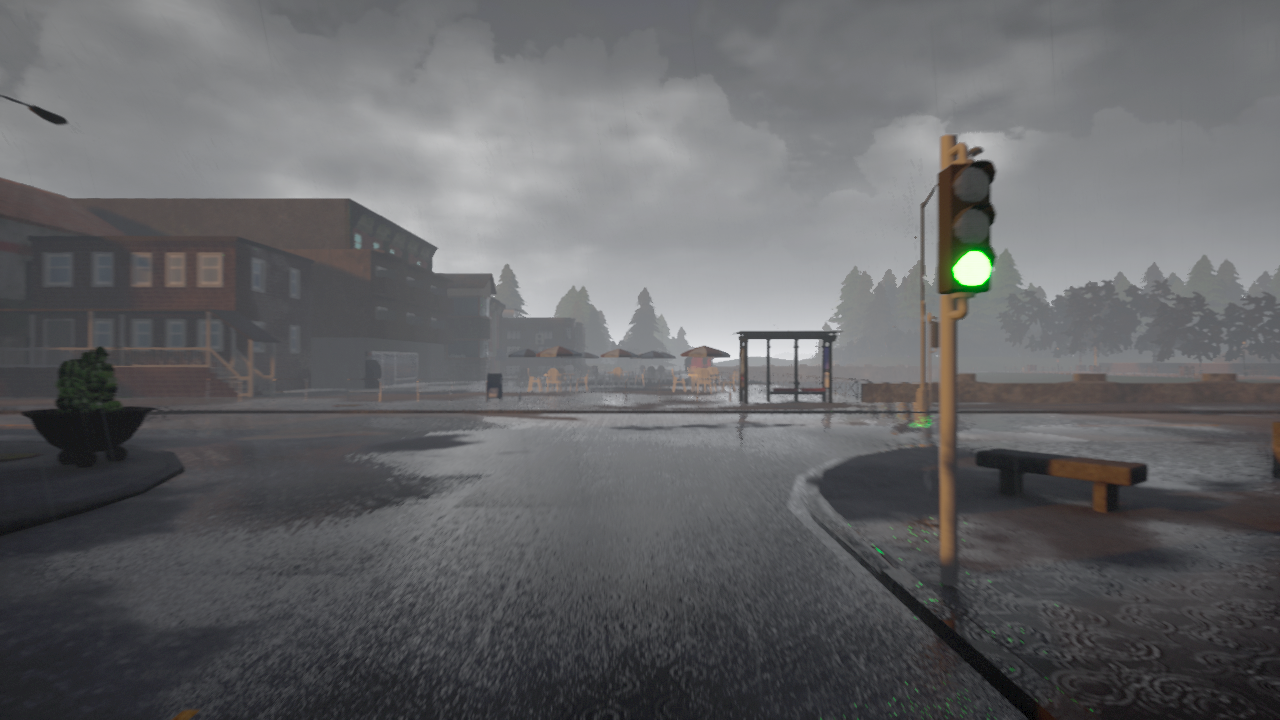green: (938, 152, 998, 298)
